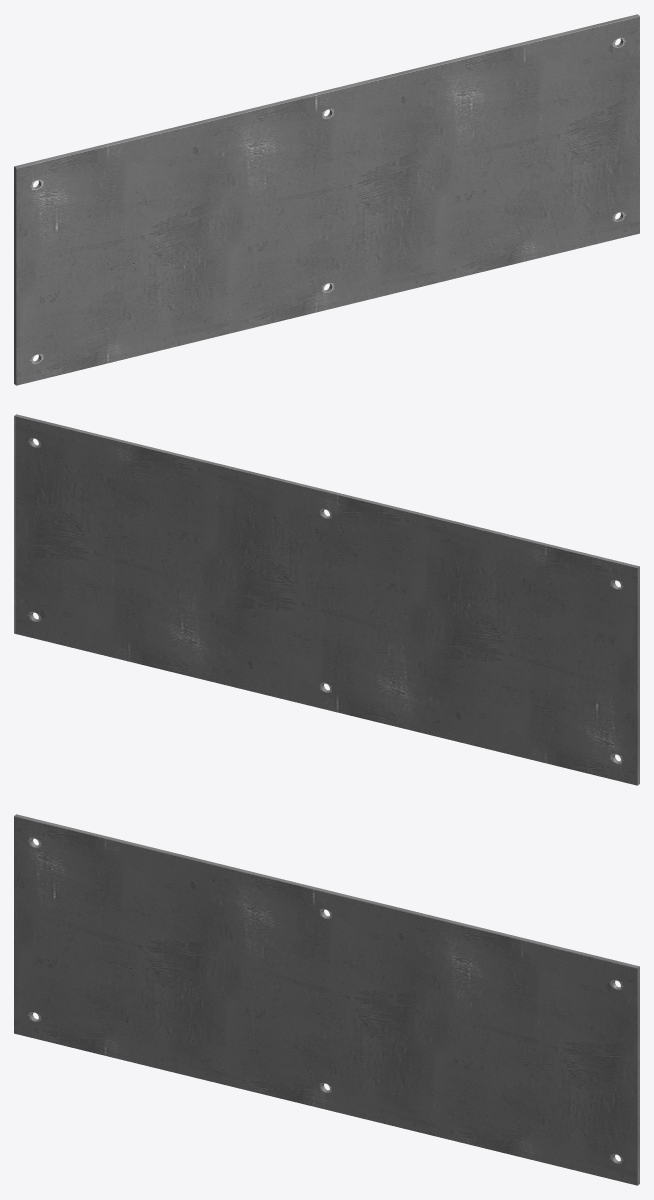
Rendered from PlatesFixed.fbx.
3 renders of one model, top to bottom at view 1: azimuth 30°, elevation 25°; view 2: azimuth 150°, elevation 25°; view 3: azimuth 330°, elevation 25°, orthographic.
Parts seen in each view (by area): view 1: Plate; view 2: Plate; view 3: Plate.
Boxes of the visible parts, <box> form: Plate: <box>14,14,639,385</box>; Plate: <box>14,414,639,785</box>; Plate: <box>14,814,639,1185</box>.
Bounding box in the file's own units: 150 × 50 × 1.
